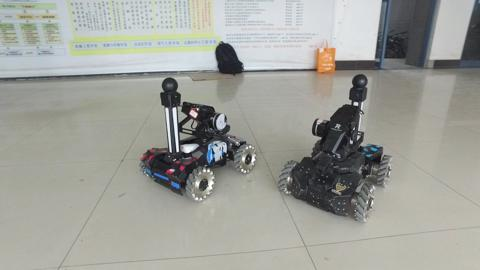chariot: (277, 65, 394, 230), (129, 71, 260, 214)
